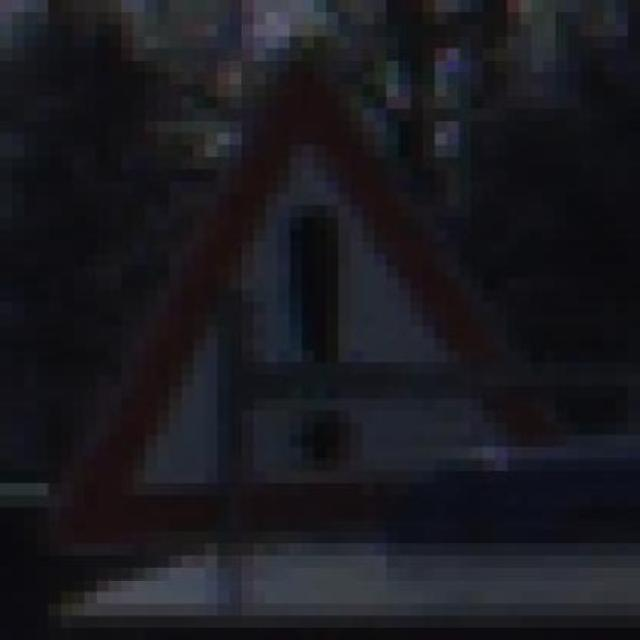Attention Please-: (96, 48, 544, 544)
